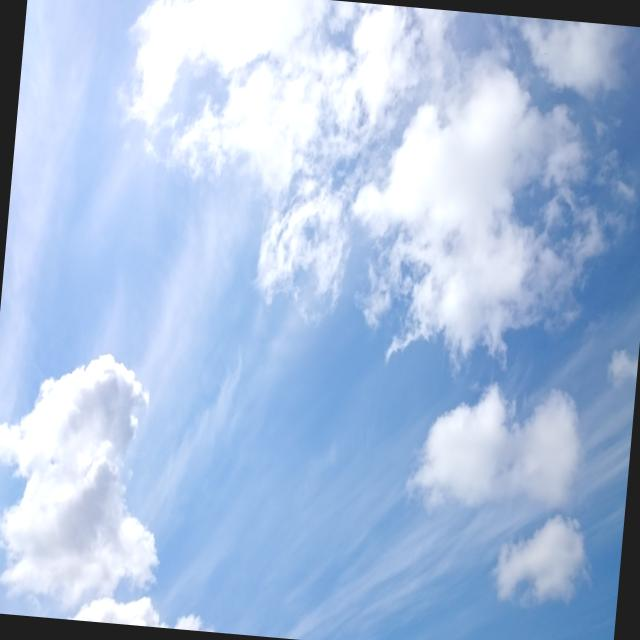cumulus: (0, 320, 213, 629), (402, 358, 608, 545)
